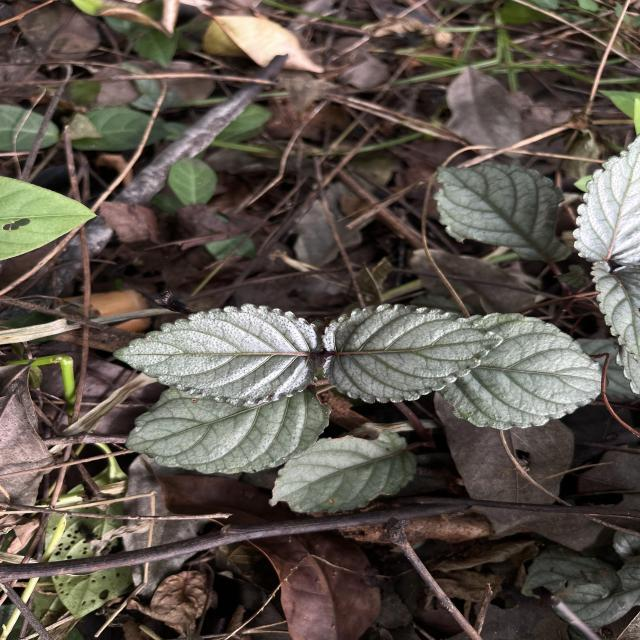Hemigraphis colorata: (107, 300, 324, 410), (436, 308, 612, 433), (316, 300, 510, 406), (122, 385, 336, 476), (429, 159, 574, 270), (265, 424, 422, 520), (571, 132, 640, 269)
